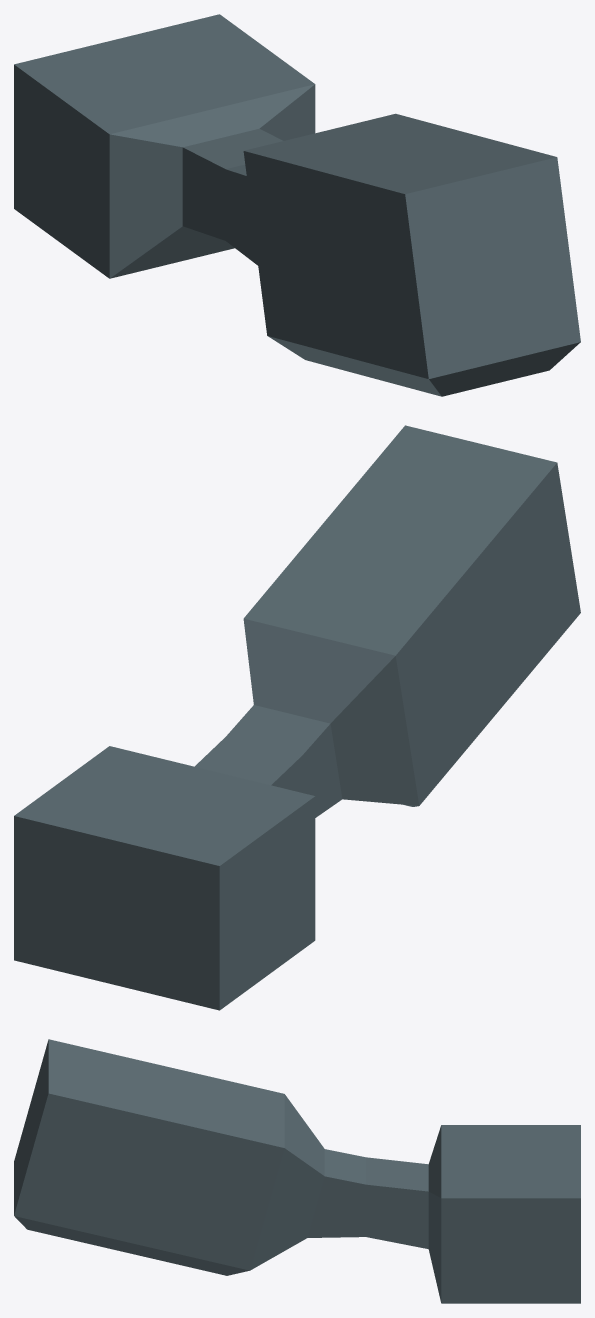
The model's file is WindowAcc_Lights.fbx.
3 renders of one model, top to bottom at view 1: azimuth 30°, elevation 25°; view 2: azimuth 150°, elevation 25°; view 3: azimuth 270°, elevation 25°, orthographic. The views are drawn at different scales.
Visible parts, largest first — view 1: WindowAcc_Lights; view 2: WindowAcc_Lights; view 3: WindowAcc_Lights.
Part boxes in pixels (x1=…): WindowAcc_Lights: x1=14, y1=14, x2=580, y2=396; WindowAcc_Lights: x1=14, y1=425, x2=580, y2=1010; WindowAcc_Lights: x1=14, y1=1039, x2=580, y2=1303.
Size of the model in its own units: 10.43 by 13.31 by 34.07.
